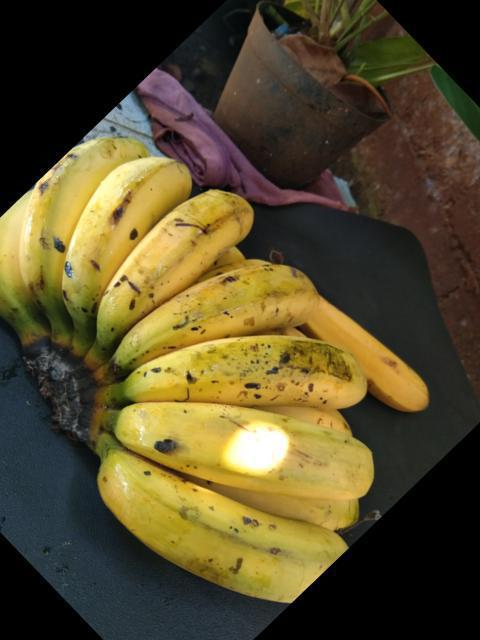ripe: (90, 455, 351, 615), (114, 375, 392, 507), (91, 194, 240, 349), (130, 260, 330, 358), (114, 327, 365, 403), (58, 154, 185, 289)
